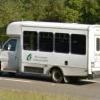Bus: (6, 14, 100, 82)
